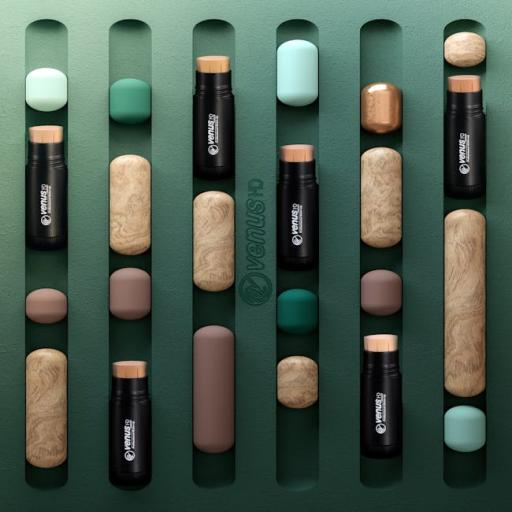lipstick: (360, 334, 402, 458), (277, 145, 318, 270), (110, 361, 151, 486), (445, 75, 486, 198), (193, 56, 234, 178), (26, 126, 66, 249)
